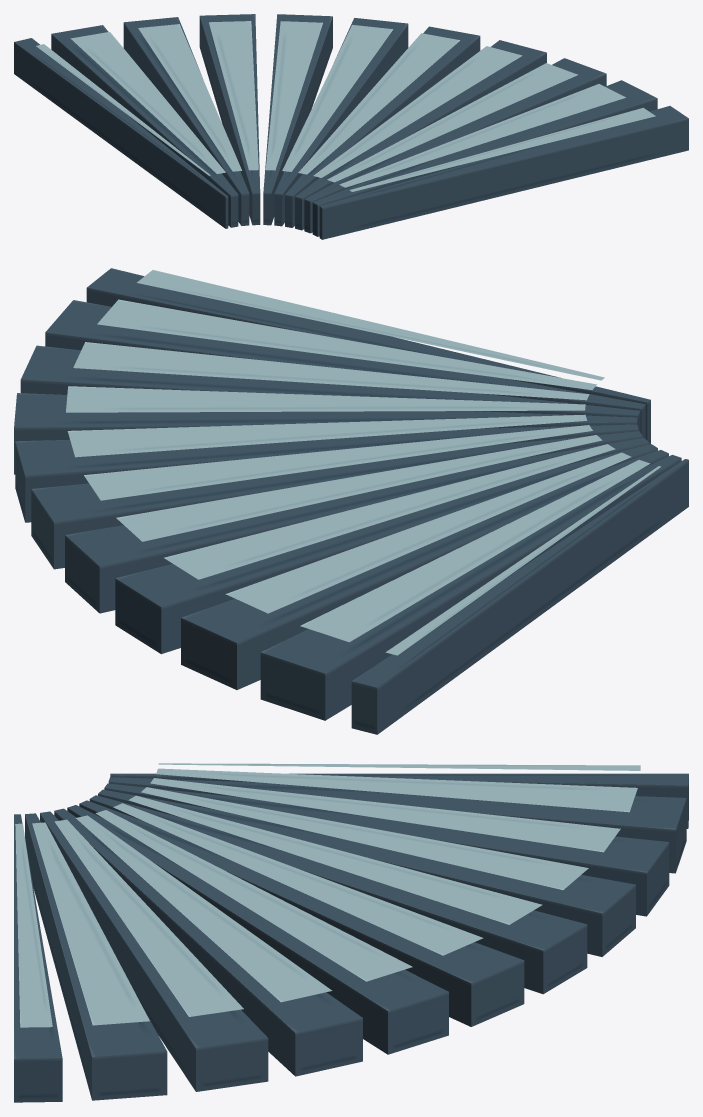
Rendered from sc_tread_curve_left_13.obj.
The picture shows the model from 3 angles, top to bottom: view 1: azimuth 30°, elevation 25°; view 2: azimuth 150°, elevation 25°; view 3: azimuth 270°, elevation 25°; orthographic projection. The views are drawn at different scales.
Size of the model in its own units: 17.5 by 1.56 by 17.5.
Materials: 1 (1 with a texture image).
